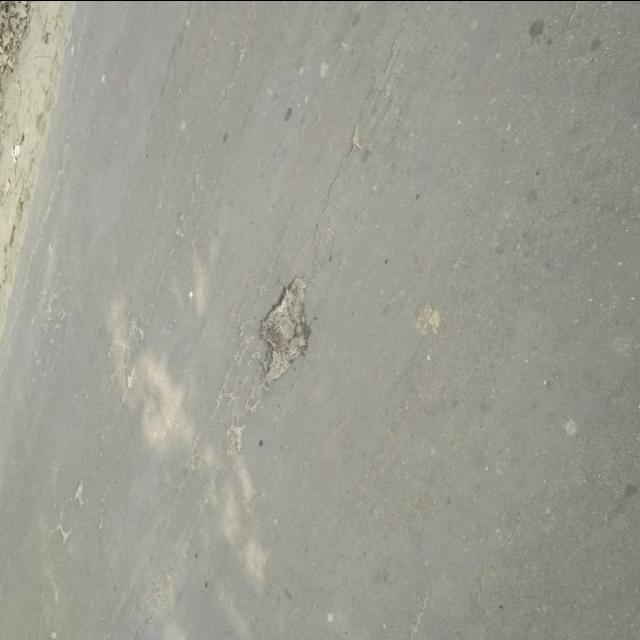pothole: (238, 248, 350, 418)
